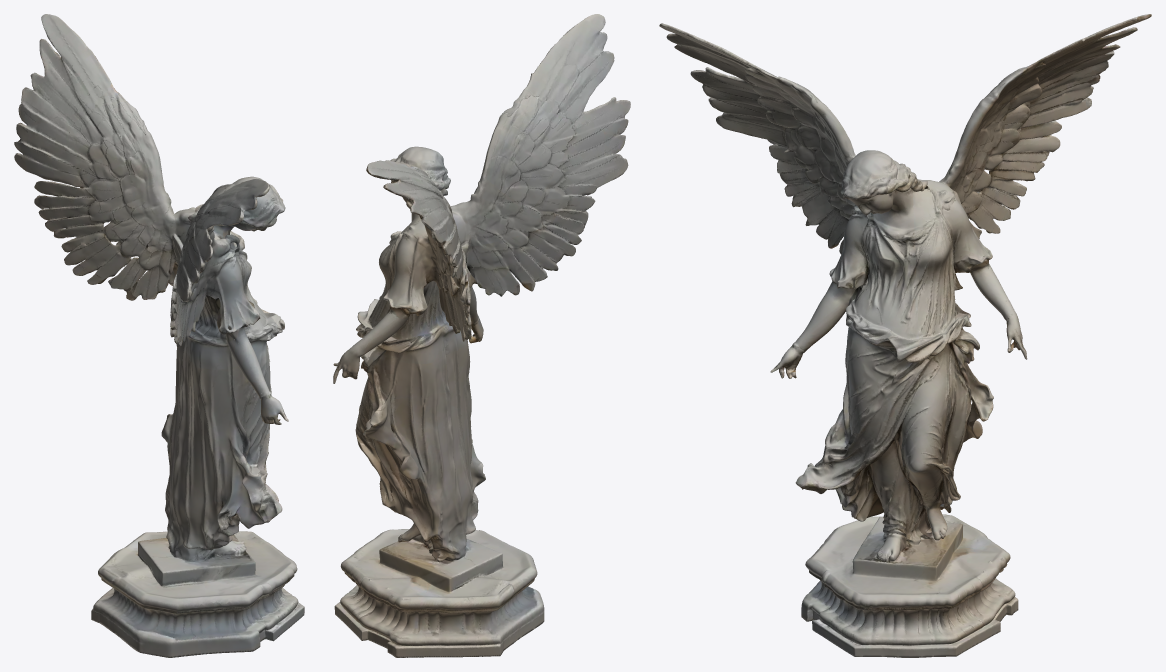
The picture shows the model from 3 angles, left to right: view 1: azimuth 30°, elevation 25°; view 2: azimuth 150°, elevation 25°; view 3: azimuth 270°, elevation 25°; orthographic projection. The views are drawn at different scales.
Parts seen in each view (by area): view 1: tripo_node_e9176392-6933-4cb5-b737-c2892386342a; view 2: tripo_node_e9176392-6933-4cb5-b737-c2892386342a; view 3: tripo_node_e9176392-6933-4cb5-b737-c2892386342a.
Boxes of the visible parts, x1=… form: tripo_node_e9176392-6933-4cb5-b737-c2892386342a: x1=14, y1=14, x2=304, y2=657; tripo_node_e9176392-6933-4cb5-b737-c2892386342a: x1=333, y1=14, x2=630, y2=657; tripo_node_e9176392-6933-4cb5-b737-c2892386342a: x1=659, y1=14, x2=1151, y2=657.
Size of the model in its own units: 4.02 by 11.12 by 8.58.
1 material, 1 textured.
